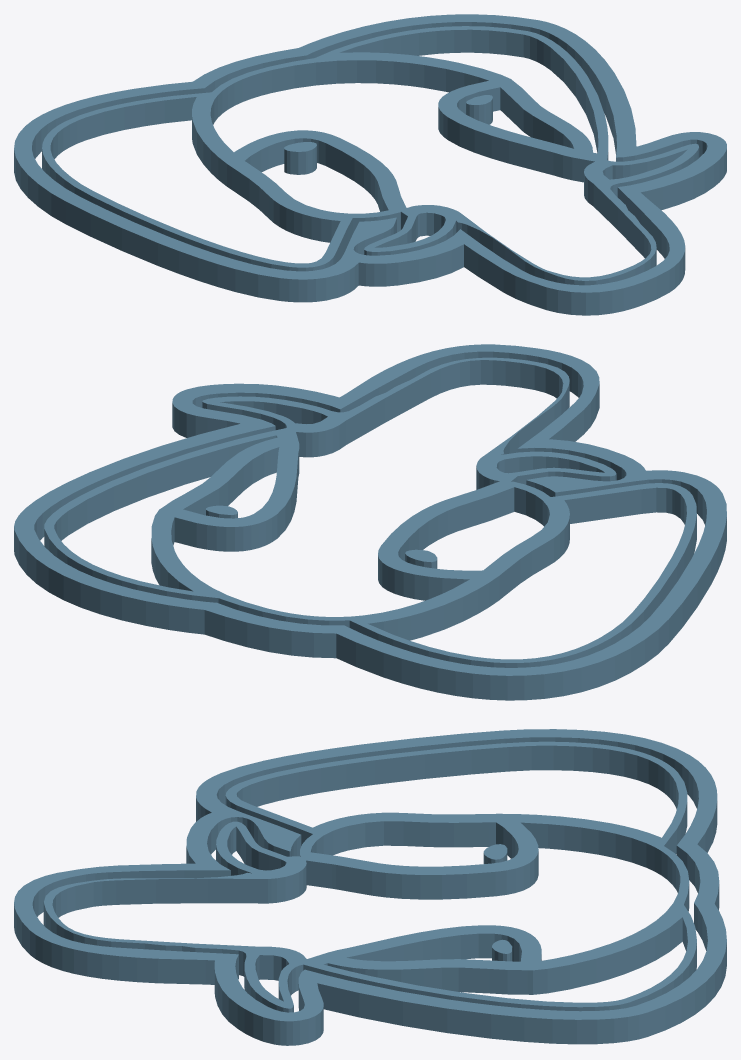
File: postgresql.glb
The picture shows the model from 3 angles, top to bottom: view 1: azimuth 30°, elevation 25°; view 2: azimuth 150°, elevation 25°; view 3: azimuth 270°, elevation 25°; orthographic projection. The views are drawn at different scales.
Visible parts, largest first — view 1: Mesh_Mesh_head_geo.001_lambert2SG.001; view 2: Mesh_Mesh_head_geo.001_lambert2SG.001; view 3: Mesh_Mesh_head_geo.001_lambert2SG.001.
Part boxes in pixels (box(x1,y1,x2,y2)): Mesh_Mesh_head_geo.001_lambert2SG.001: box(14, 14, 726, 315); Mesh_Mesh_head_geo.001_lambert2SG.001: box(14, 344, 726, 700); Mesh_Mesh_head_geo.001_lambert2SG.001: box(14, 729, 726, 1045).
Size of the model in its own units: 38.79 by 1.52 by 40.
